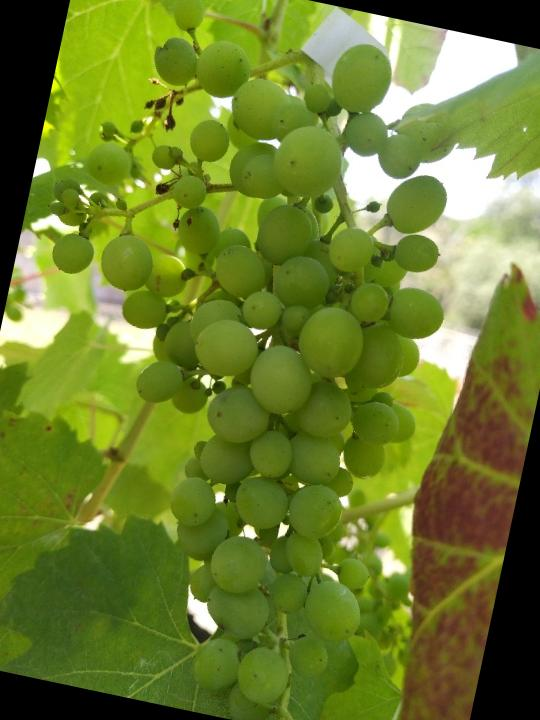grape: (0, 0, 499, 720)
